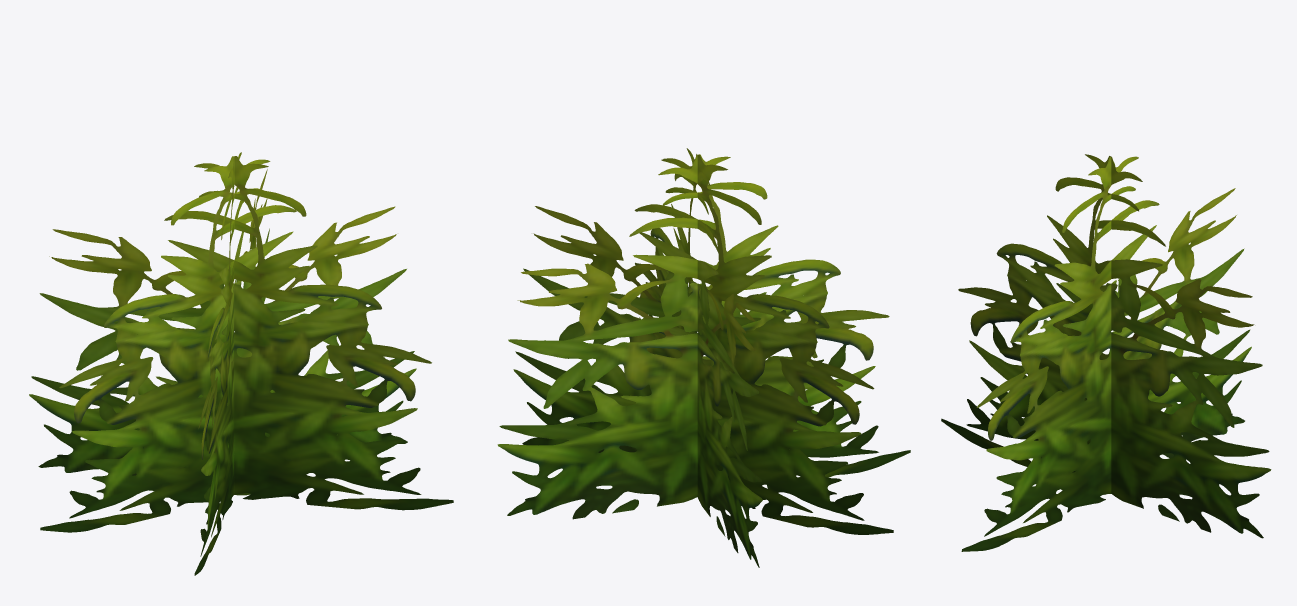
File: grass_03.fbx
3 views of the same model, side by side, from view 1: azimuth 30°, elevation 25°; view 2: azimuth 150°, elevation 25°; view 3: azimuth 270°, elevation 25° (orthographic).
Parts seen in each view (by area): view 1: polySurface266; view 2: polySurface266; view 3: polySurface266.
Part boxes in pixels (bbox=[...]): polySurface266: bbox=[29, 152, 453, 575]; polySurface266: bbox=[497, 148, 910, 567]; polySurface266: bbox=[941, 154, 1271, 551].
Size of the model in its own units: 1 by 0.9847 by 0.7632.
